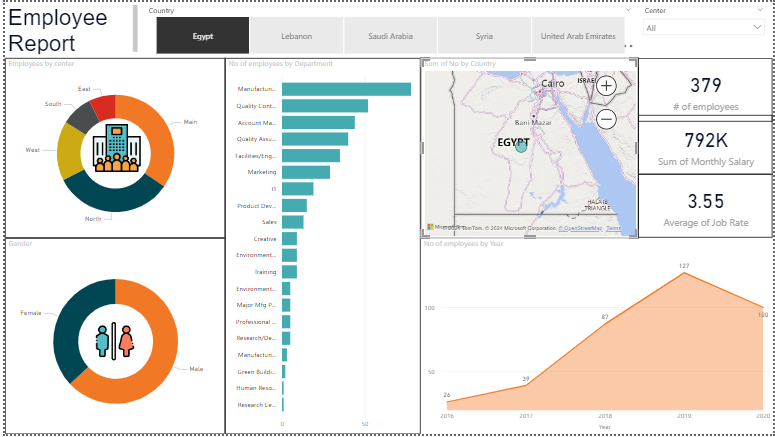

The page's visual inventory and layout, read from the dashboard file:
{"tool":"powerbi","page":{"name":"Page 1","canvas":[1280,720],"ordinal":0},"visuals":[{"type":"clusteredBarChart","title":"No of employees by Department","fields":{"Category":["EmpTable.Department"],"Y":["CountNonNull(EmpTable.No)"]},"box":[367.1,92.9,325.7,627.1],"z":0},{"type":"donutChart","title":"Employees by center","fields":{"Category":["EmpTable.Center"],"Y":["CountNonNull(EmpTable.No)"]},"box":[0,93.3,366.7,300],"z":1000},{"type":"donutChart","title":"Gender","fields":{"Category":["EmpTable.Gender"],"Y":["CountNonNull(EmpTable.Gender)"]},"box":[0,393.3,366.7,326.7],"z":2000},{"type":"map","fields":{"Category":["EmpTable.Country"],"Size":["Sum(EmpTable.No)"]},"box":[692.9,92.9,362.9,300],"z":3000},{"type":"areaChart","title":"No of employees by Year ","fields":{"Category":["EmpTable.Start Date.Variation.Date Hierarchy.Year","EmpTable.Start Date.Variation.Date Hierarchy.Quarter","EmpTable.Start Date.Variation.Date Hierarchy.Month","EmpTable.Start Date.Variation.Date Hierarchy.Day"],"Y":["CountNonNull(EmpTable.No)"]},"box":[692.9,392.9,587.1,327.1],"z":4000},{"type":"card","fields":{"Values":["CountNonNull(EmpTable.No)"]},"box":[1055.7,92.9,224.3,105.7],"z":5000},{"type":"card","fields":{"Values":["Sum(EmpTable.Monthly Salary)"]},"box":[1055.7,188.6,224.3,98.6],"z":6000},{"type":"card","fields":{"Values":["Avg(EmpTable.Job Rate)"]},"box":[1055.7,287.1,224.3,105.7],"z":7000},{"type":"slicer","fields":{"Values":["EmpTable.Country"]},"box":[226.7,0,830,93.3],"z":8000},{"type":"slicer","fields":{"Values":["EmpTable.Center"]},"box":[1053.3,0,223.3,93.3],"z":9000},{"type":"textbox","box":[0,0,226,92],"z":10000},{"type":"image","box":[103.8,528.8,160,73.8],"z":11000},{"type":"image","box":[127.5,197.5,115,90],"z":12000}]}

Visuals, with their boxes in screenshot pixels (x1, y1, x2, y2), scaled from the page's 1280x720 canvas onto the 775x437 screenshot:
"No of employees by Department" clusteredBarChart: bbox(222, 56, 419, 436)
"Employees by center" donutChart: bbox(0, 57, 222, 239)
"Gender" donutChart: bbox(0, 239, 222, 436)
map - EmpTable.Country x Sum(EmpTable.No): bbox(420, 56, 639, 238)
"No of employees by Year " areaChart: bbox(420, 238, 774, 436)
card - CountNonNull(EmpTable.No): bbox(639, 56, 774, 121)
card - Sum(EmpTable.Monthly Salary): bbox(639, 114, 774, 174)
card - Avg(EmpTable.Job Rate): bbox(639, 174, 774, 238)
slicer - EmpTable.Country: bbox(137, 0, 640, 57)
slicer - EmpTable.Center: bbox(638, 0, 773, 57)
textbox: bbox(0, 0, 137, 56)
image: bbox(63, 321, 160, 366)
image: bbox(77, 120, 147, 174)
